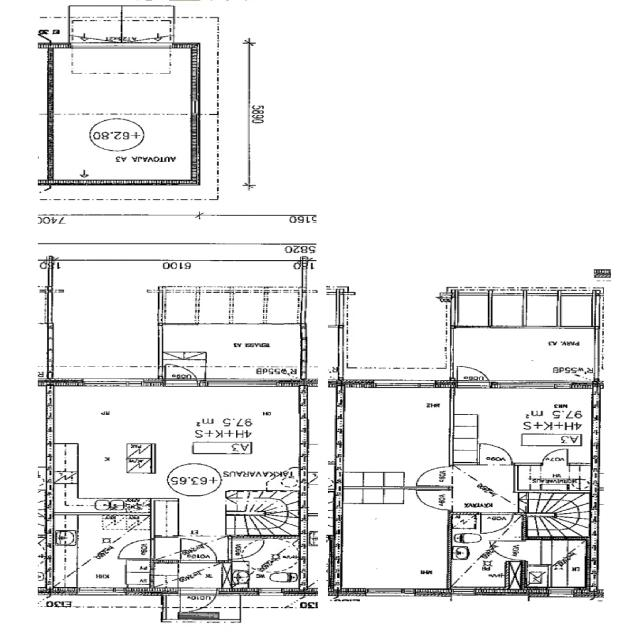door: (449, 533, 528, 591), (451, 363, 493, 386), (160, 364, 202, 386), (412, 488, 453, 510), (475, 442, 515, 464), (414, 465, 451, 487), (479, 513, 514, 535), (491, 539, 525, 561), (184, 592, 216, 612), (538, 446, 572, 464)
window: (72, 375, 153, 391), (201, 377, 291, 391), (359, 378, 436, 391), (510, 378, 576, 392), (359, 585, 417, 600), (72, 586, 126, 597), (253, 587, 293, 599), (186, 96, 207, 118), (547, 586, 579, 599), (448, 587, 481, 599)
zone: (48, 384, 313, 484), (338, 384, 456, 486), (338, 486, 450, 592), (453, 386, 593, 463), (49, 509, 151, 591), (158, 322, 306, 378), (231, 536, 311, 591), (450, 534, 521, 592), (524, 539, 591, 592), (449, 464, 519, 514), (516, 462, 592, 491), (122, 4, 175, 45), (70, 5, 121, 45), (166, 560, 232, 590), (175, 535, 231, 562), (451, 512, 481, 533)
